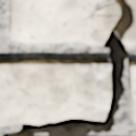brick: (0, 61, 110, 126), (129, 64, 135, 120)
broken_brick: (11, 0, 116, 45), (125, 22, 135, 47), (130, 0, 135, 15)
crack: (2, 0, 135, 135)
